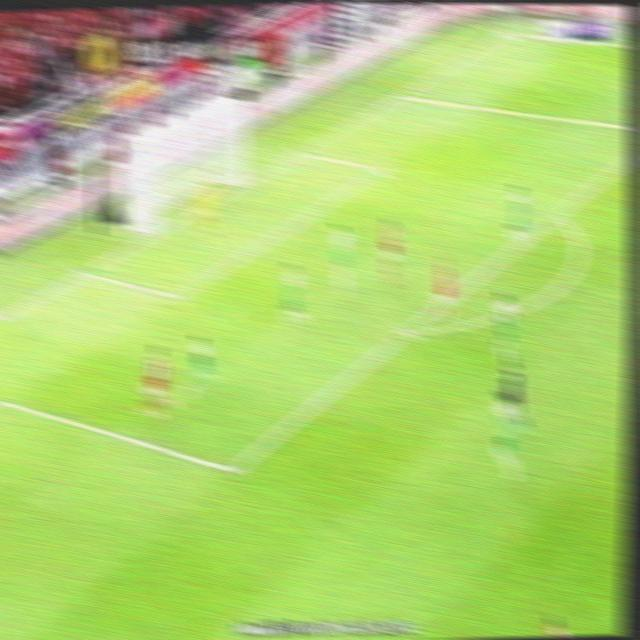bigarea_bottom_inner: (213, 451, 246, 486)
bigarea_top_outter: (386, 83, 412, 106)
bottom_arc_area_intersection: (392, 316, 421, 345)
corner: (492, 23, 520, 41)
smallarea_bottom_inner: (159, 278, 190, 310)
smallarea_bottom_outter: (68, 258, 97, 284)
smallarea_top_inner: (363, 156, 392, 180)
smallarea_top_outter: (285, 138, 312, 164)
top_arc_area_intersection: (542, 203, 569, 225)
